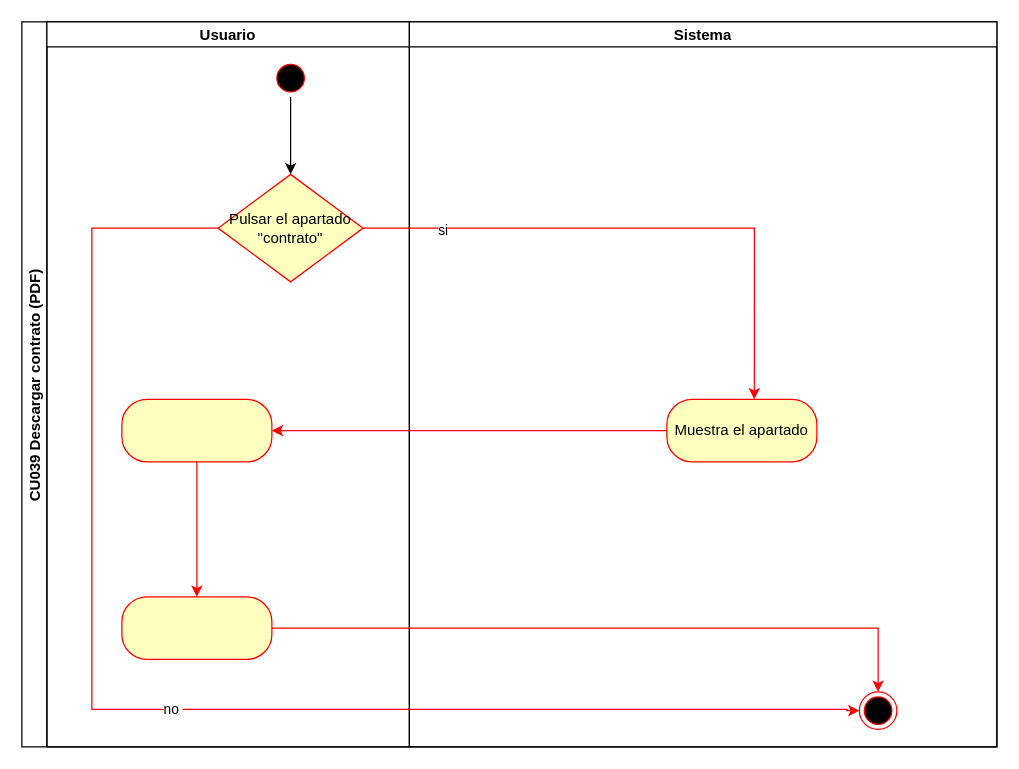
Image size: 1019x769. Some labels were removed from this diagram. The shapes that lost their labels are listed below. From the top down, each one's centre as x and y in pixels, then its label:
point (196, 430): selecciona el contrato
point (196, 627): Pulsa en "Descargar contrato"
